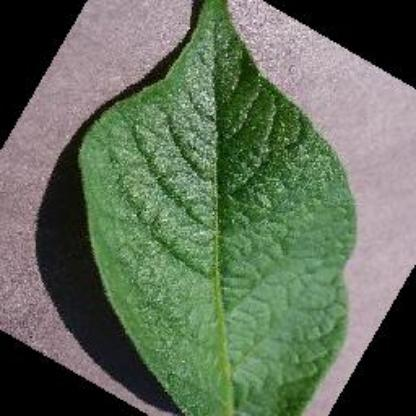Healthy-plant: (77, 0, 357, 416)
